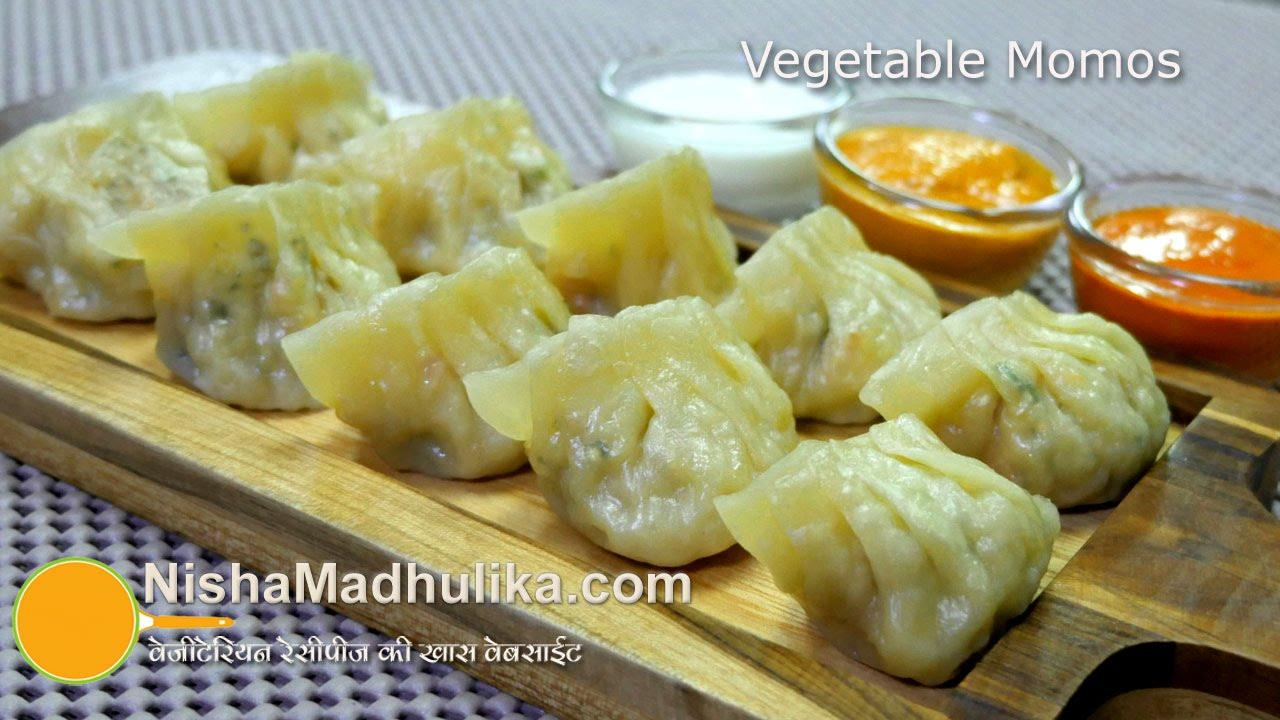momos: (715, 415, 1060, 685), (465, 298, 798, 565), (95, 180, 398, 410), (860, 292, 1170, 508), (282, 248, 570, 478), (295, 98, 572, 280), (0, 92, 220, 321), (718, 207, 940, 424), (518, 148, 738, 314), (175, 52, 388, 181)
